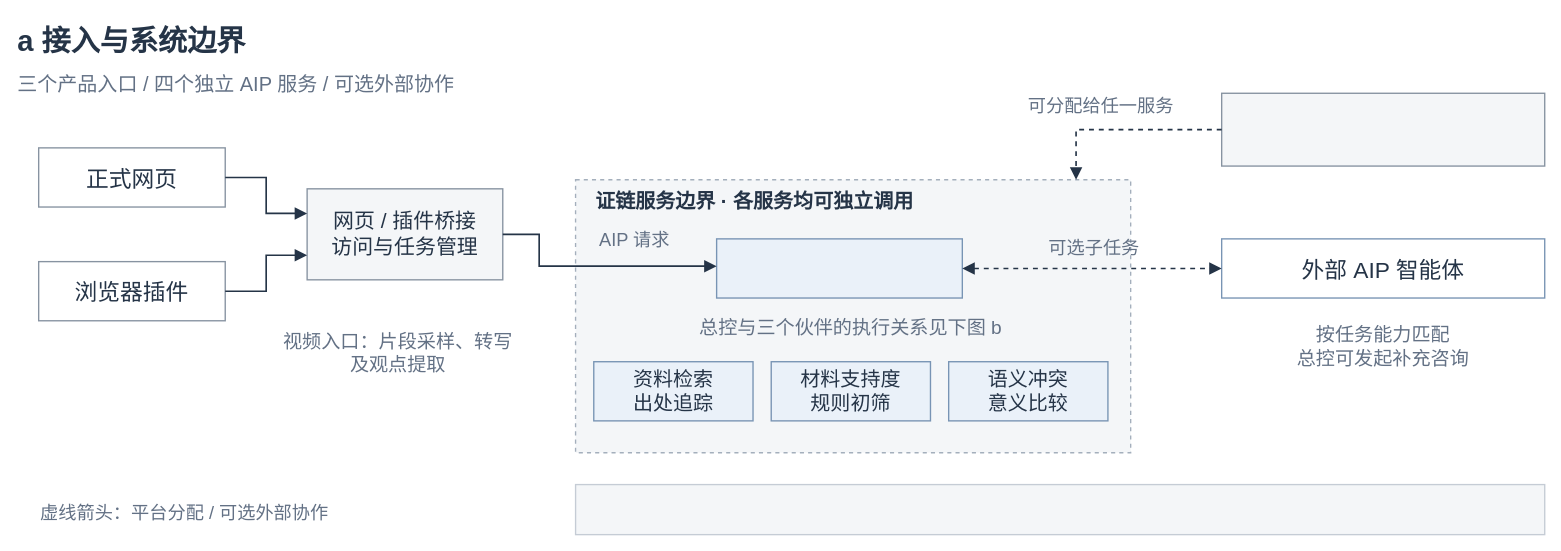
Some shapes in this 1561 by 551 pixel diagram are drawn without their labels. Each missing label, with the centre of its shape:
"AIC / mTLS 身份认证 · AIP 任务生命周期 · 引用定位与执行日志" belongs at (x=1059, y=509).
"梧桐 / 叮当 发现、分配与平台汇总" belongs at (x=1383, y=129).
"证据审查总控" belongs at (x=839, y=268).
